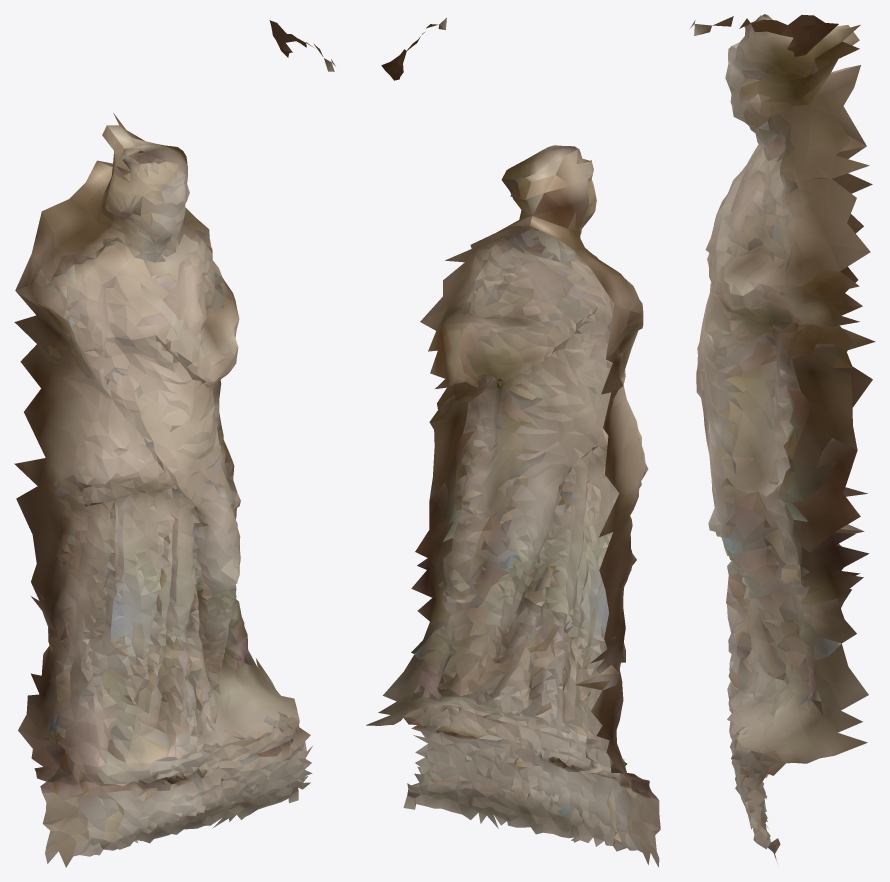
The model's file is celsus-sophia.glb.
The picture shows the model from 3 angles, left to right: view 1: azimuth 30°, elevation 25°; view 2: azimuth 150°, elevation 25°; view 3: azimuth 270°, elevation 25°; orthographic projection. The views are drawn at different scales.
Visible parts, largest first — view 1: Object_5; view 2: Object_5; view 3: Object_5.
Boxes of the visible parts, <box> form: Object_5: <box>14,20,335,867</box>; Object_5: <box>366,18,660,867</box>; Object_5: <box>690,14,875,863</box>.
Size of the model in its own units: 0.3841 by 1.1 by 0.2176.
Materials: 1 (1 with a texture image).
